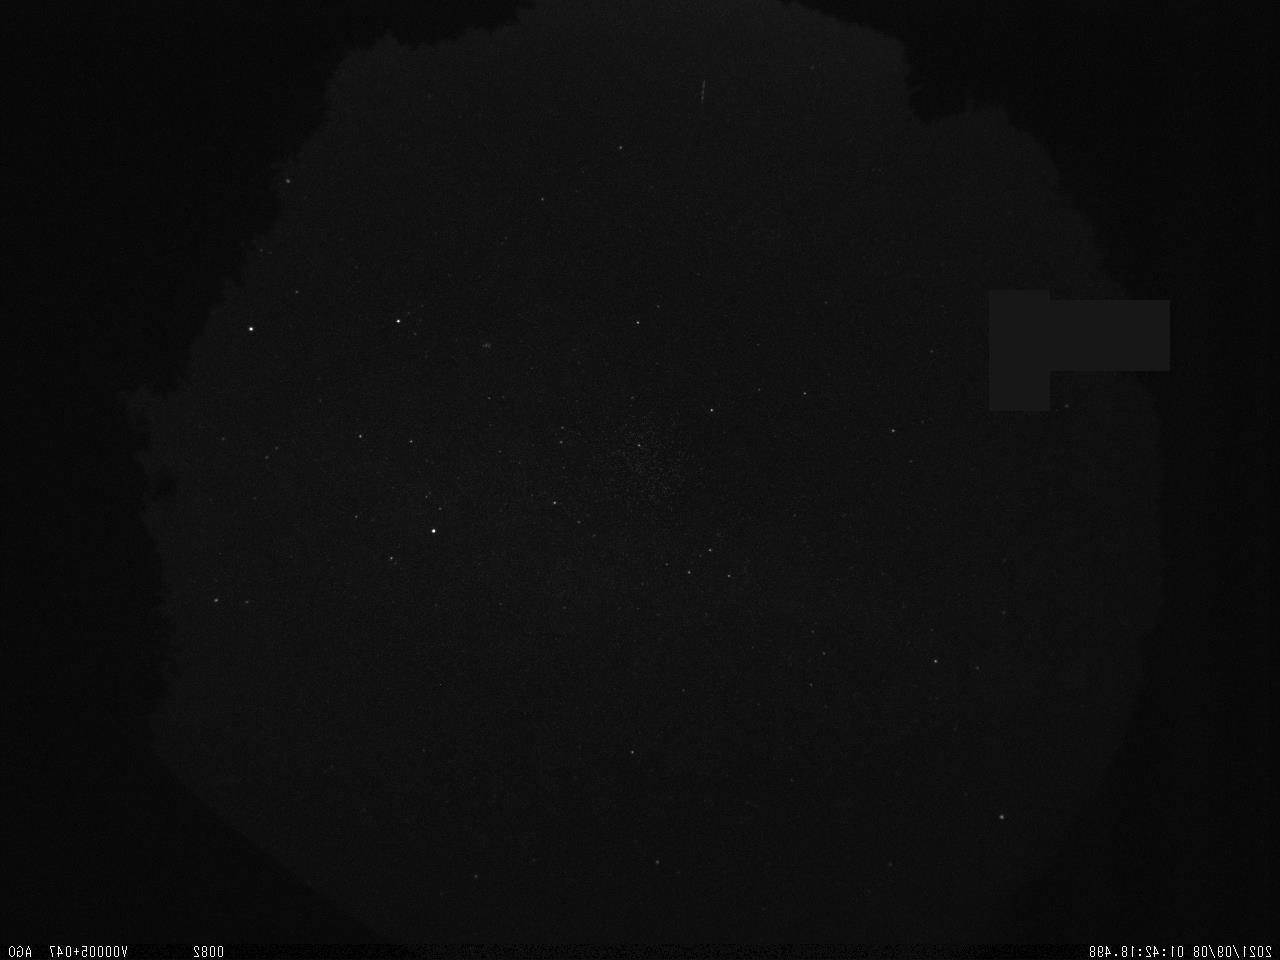meteor: (687, 68, 713, 110)
